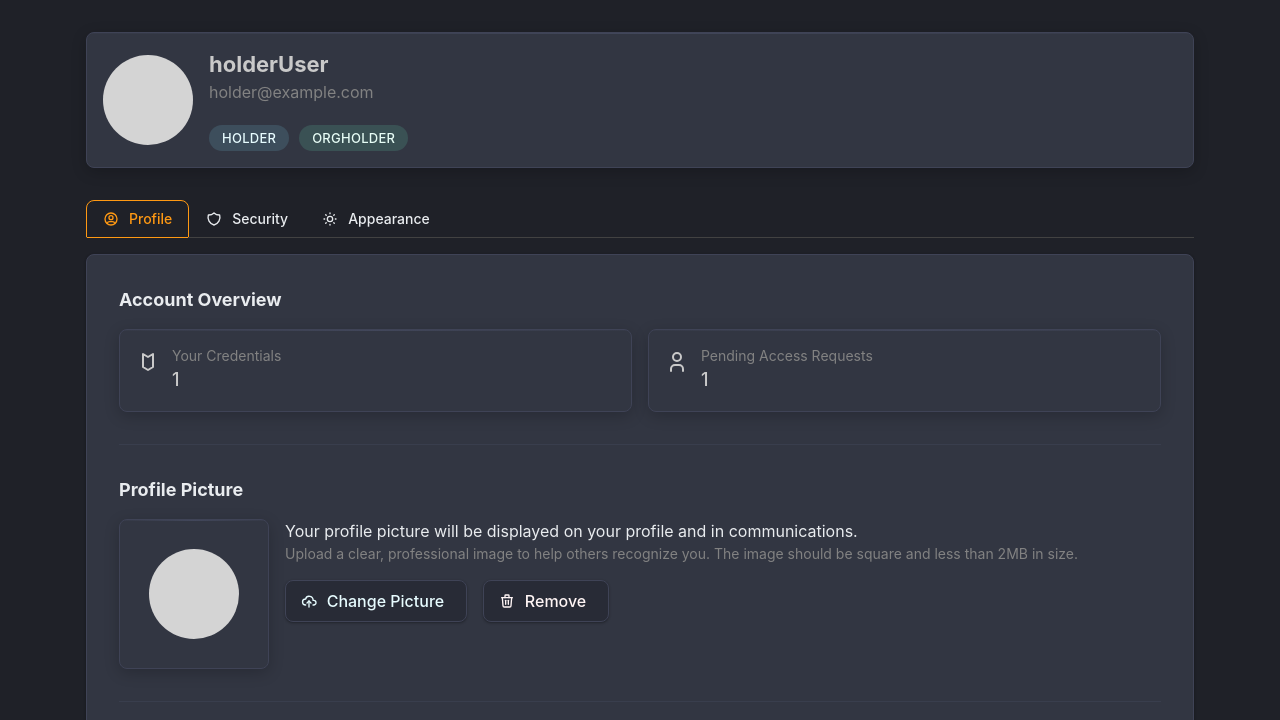
Settings Page › shows theme selection options in preferences tab
The width and height of the screenshot is (1280, 720).
Click the tab "Appearance" at (376, 219), box top-left (305, 200), bottom-right (447, 238)
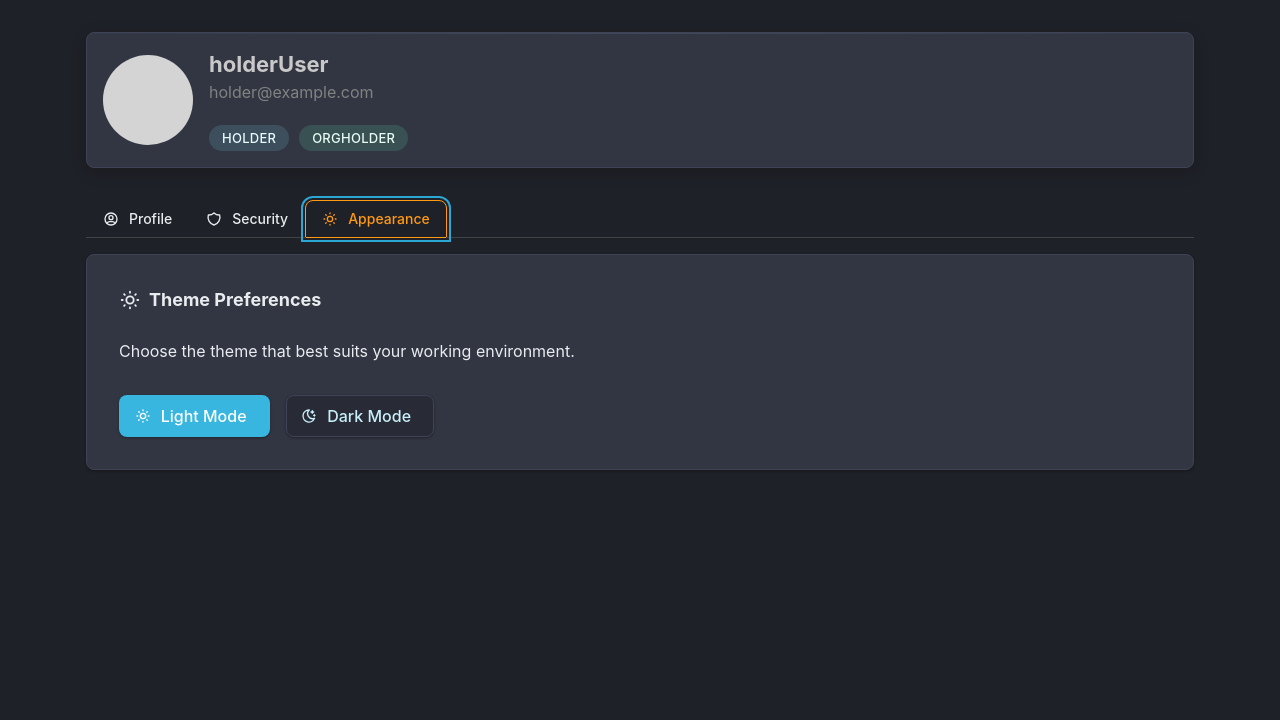
Expected: the text "Appearance" is shown, top-left (348, 212), bottom-right (430, 226)
Result: the button "Light Mode" is shown at top-left (119, 396), bottom-right (270, 438)
Result: the button "Dark Mode" is shown at top-left (286, 396), bottom-right (434, 438)
